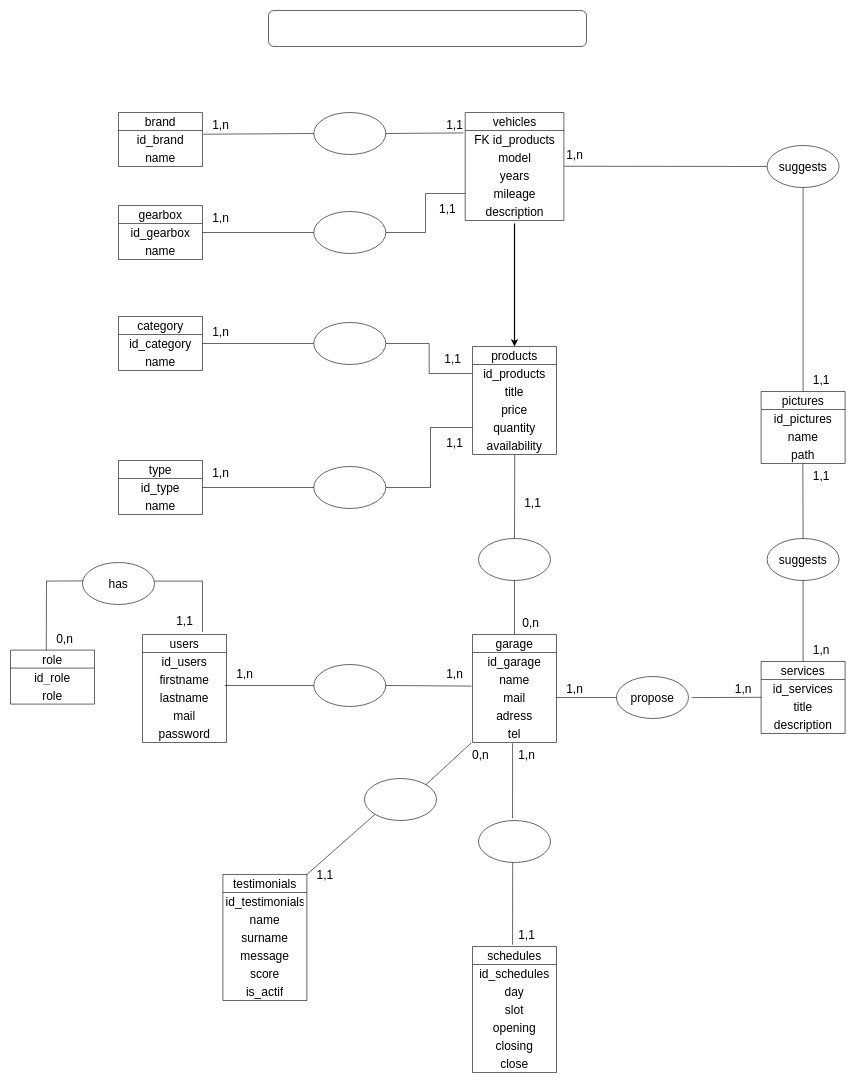
This 856x1083 diagram has some shape labels left out. The centre of each missing label's shape, as x and y in pixels:
"belongs" goes at (x=349, y=343).
"belongs too" goes at (x=349, y=487).
"contain" goes at (x=400, y=799).
"holds" goes at (x=349, y=133).
"MCD Merise - V_Parrot" goes at (x=427, y=28).
"possesses" goes at (x=514, y=841).
"send" goes at (x=514, y=559).
"use" goes at (x=349, y=232).
"work" goes at (x=349, y=685).
